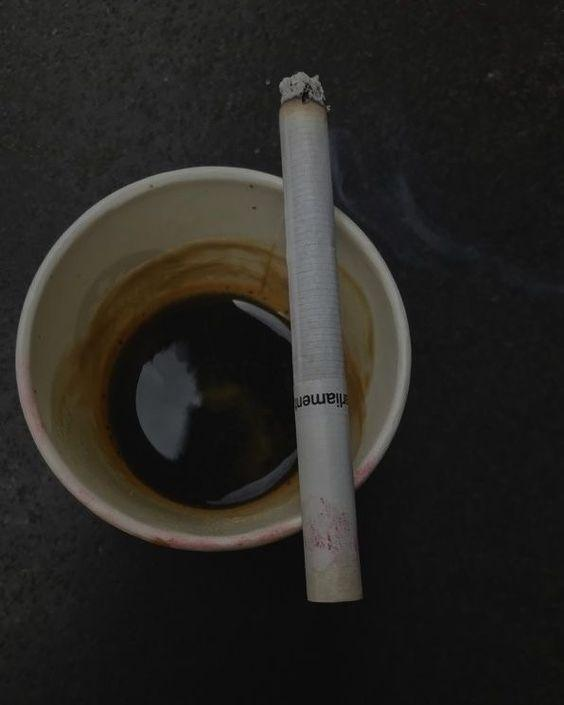cigarette: (278, 74, 363, 604)
